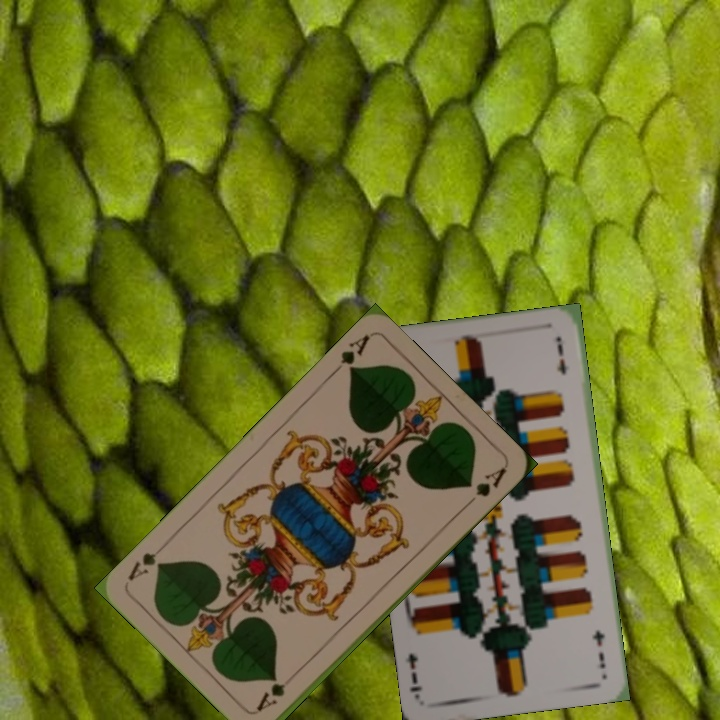E7: (588, 626, 608, 671)
GA: (327, 330, 373, 379), (252, 668, 300, 714)
